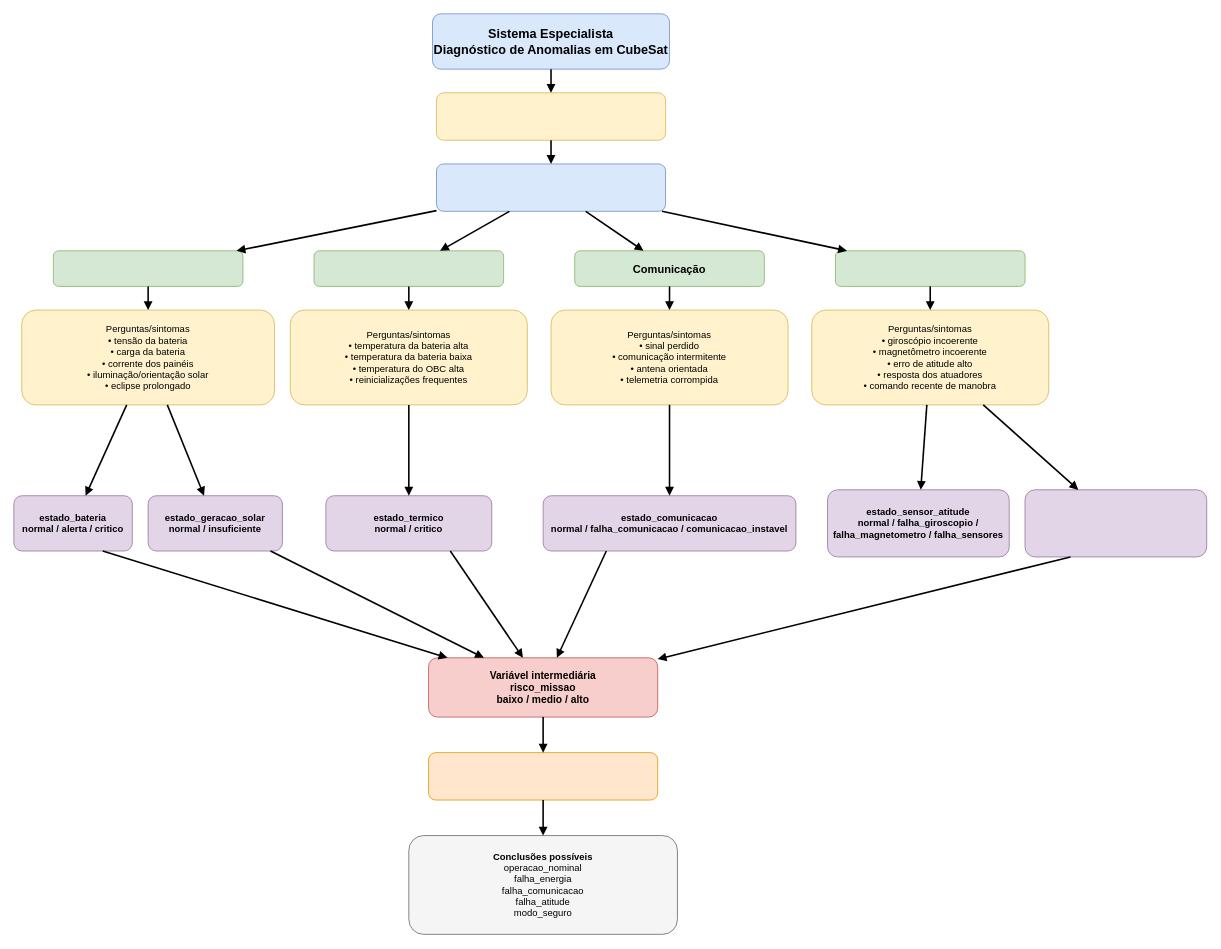
The diagram is 1221 pixels wide and 949 high, and some of its shapes have lost their labels. Each missing label, with the centre of its shape:
"20 perguntas ao usuário" goes at [551,116].
"Atitude" goes at [930,268].
"Base de Conhecimento 36 regras de produção" goes at [551,187].
"Energia" goes at [148,268].
"estado_controle_atitude normal / falha_atuador / erro_orientacao" goes at [1115,523].
"Objetivo do sistema diagnostico" goes at [543,776].
"Térmico" goes at [408,268].
